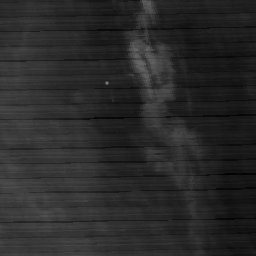Target: (104, 79, 110, 86)
